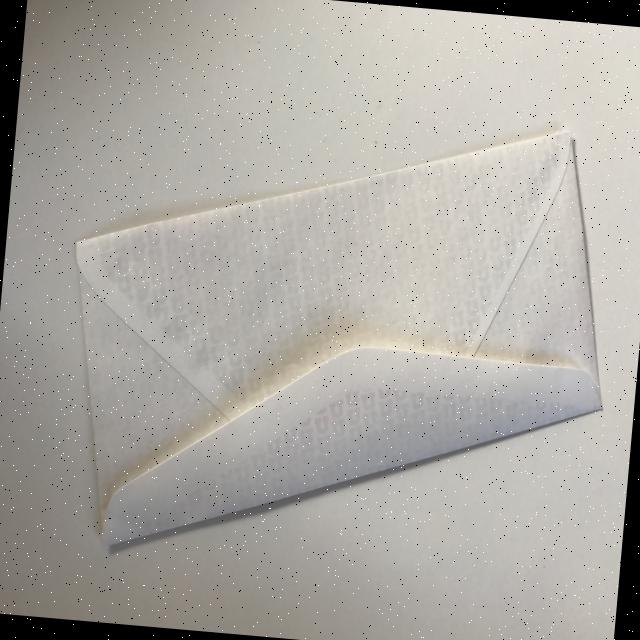paper: (49, 86, 626, 589)
